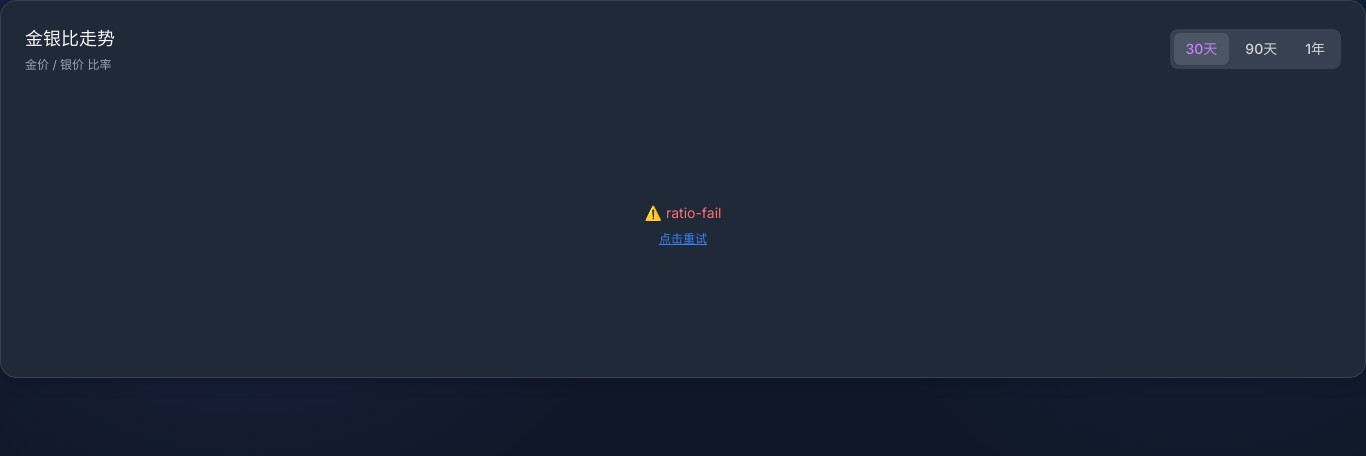
Test: GoldSilverRatioChart › shows error and retries
This screenshot has width=1366, height=456.
Expected: the text "⚠️ ratio-fail" is shown, [644,202,722,222]
Click the button "点击重试" at (683, 238), box [659,230,707,246]
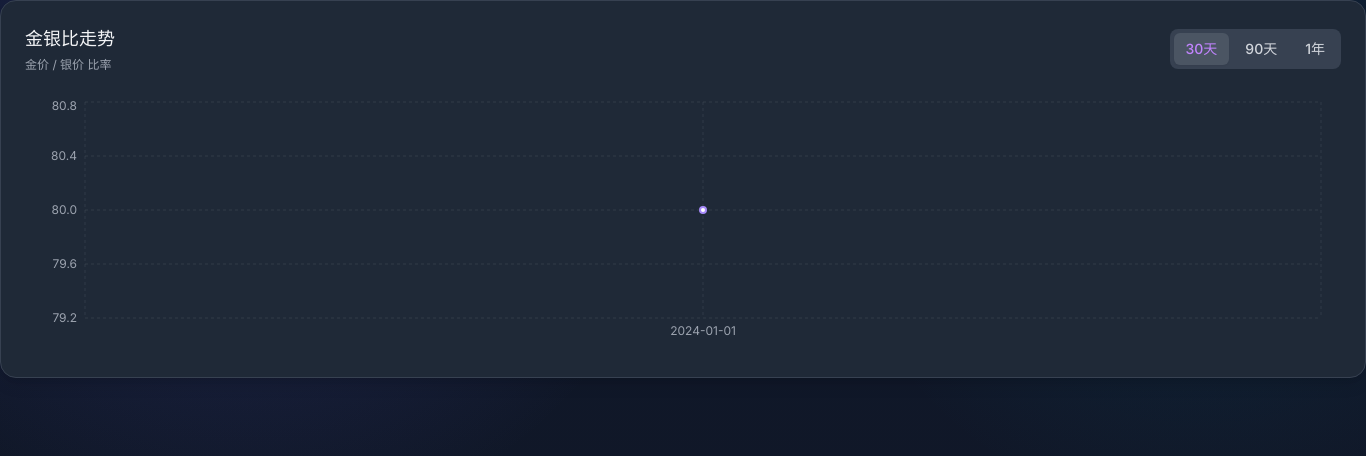
Expected: the text "ratio-fail" is gone
